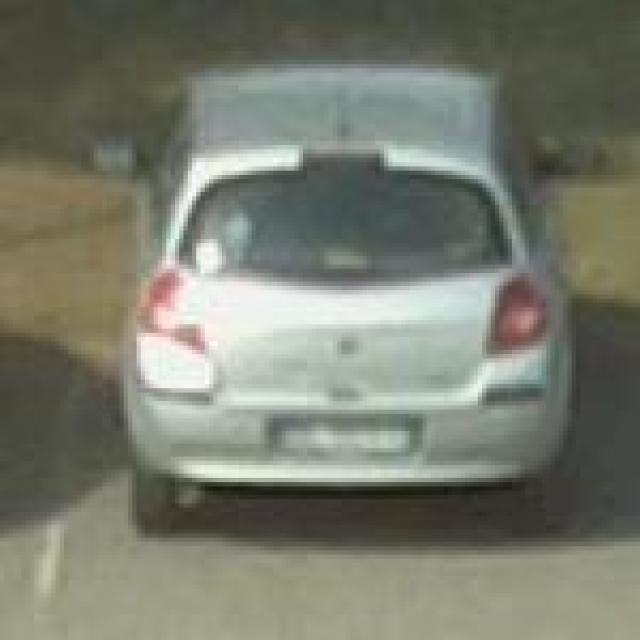cars-sUYr: (91, 48, 601, 546)
